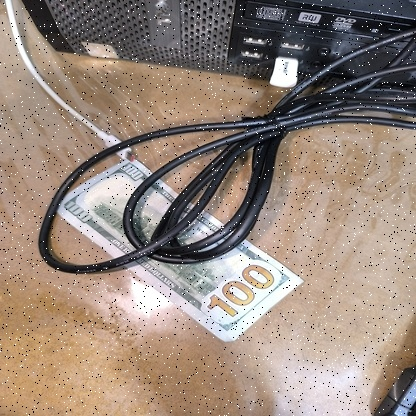one_hundred-back: (46, 157, 304, 344)
